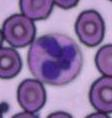N: (26, 34, 82, 85)
